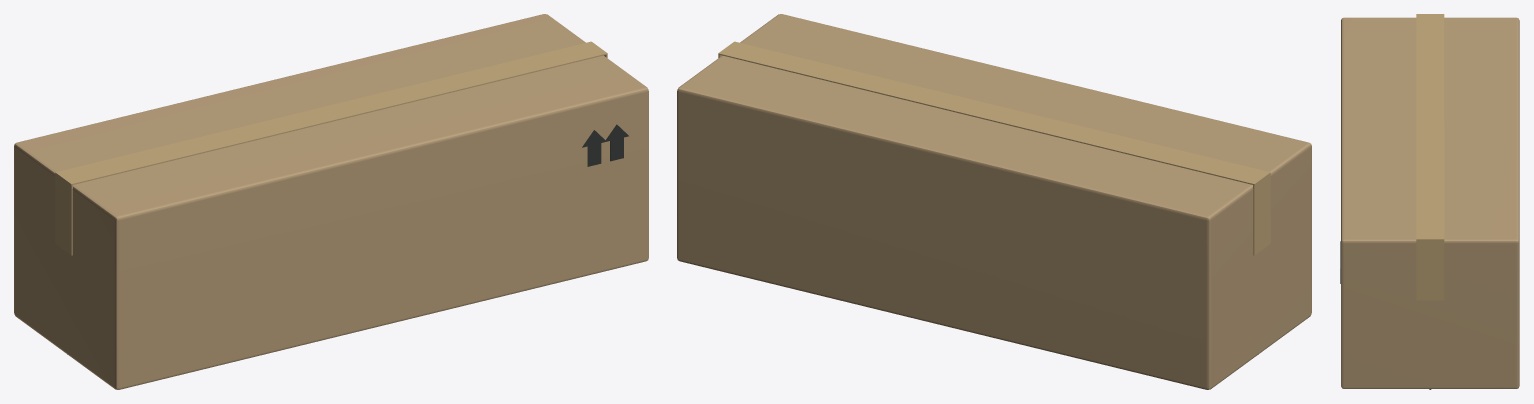
File: industrial.yard.box_cardboard_long.glb
3 views of the same model, side by side, from view 1: azimuth 30°, elevation 25°; view 2: azimuth 150°, elevation 25°; view 3: azimuth 270°, elevation 25° (orthographic). The views are drawn at different scales.
Visible parts, largest first — view 1: main__paint_ba7, main__paint_ca7, main__paint_333; view 2: main__paint_ba7, main__paint_ca7; view 3: main__paint_ba7, main__paint_ca7.
Part boxes in pixels (x1,y1,x2,y2): main__paint_ba7: (14, 14, 648, 389); main__paint_ca7: (55, 41, 607, 255); main__paint_333: (582, 124, 628, 166); main__paint_ba7: (677, 14, 1311, 389); main__paint_ca7: (718, 41, 1270, 255); main__paint_ba7: (1341, 17, 1519, 388); main__paint_ca7: (1416, 14, 1444, 300).
Bounding box in the file's own units: 0.954 × 0.301 × 0.3211.
